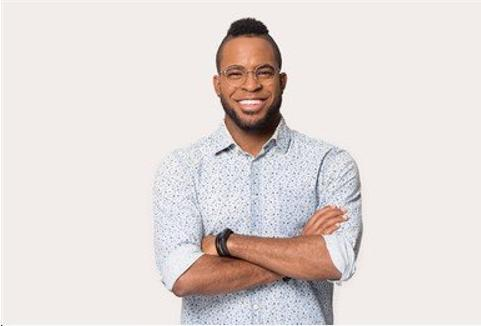Sober: (218, 39, 282, 124)
